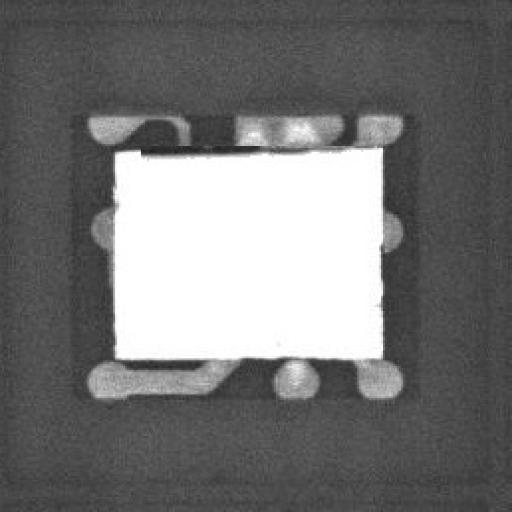DIE_BROKEN: (135, 138, 304, 160)
